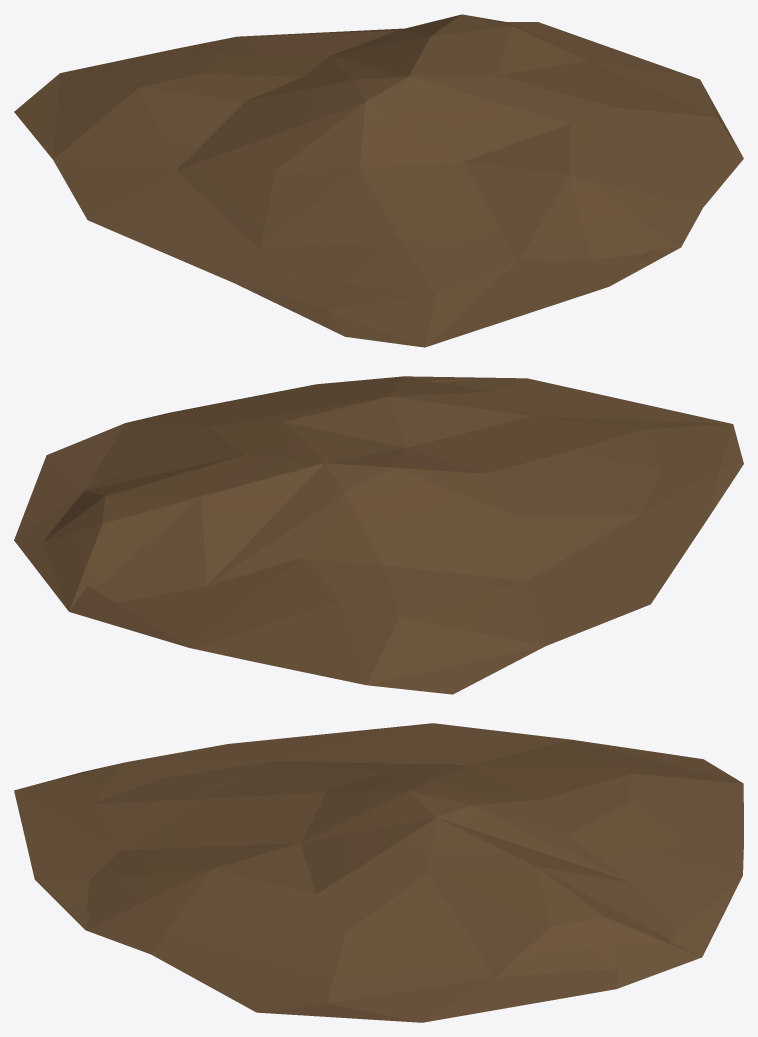
Rendered from Mud_01.glb.
The picture shows the model from 3 angles, top to bottom: view 1: azimuth 30°, elevation 25°; view 2: azimuth 150°, elevation 25°; view 3: azimuth 270°, elevation 25°; orthographic projection.
Visible parts, largest first — view 1: Mud_01; view 2: Mud_01; view 3: Mud_01.
Part boxes in pixels (x1,y1,x2,y2): Mud_01: (14, 14, 743, 347); Mud_01: (14, 376, 743, 694); Mud_01: (14, 723, 743, 1022).
Size of the model in its own units: 1.94 by 0.2459 by 2.02.
Materials: 1 (1 with a texture image).
